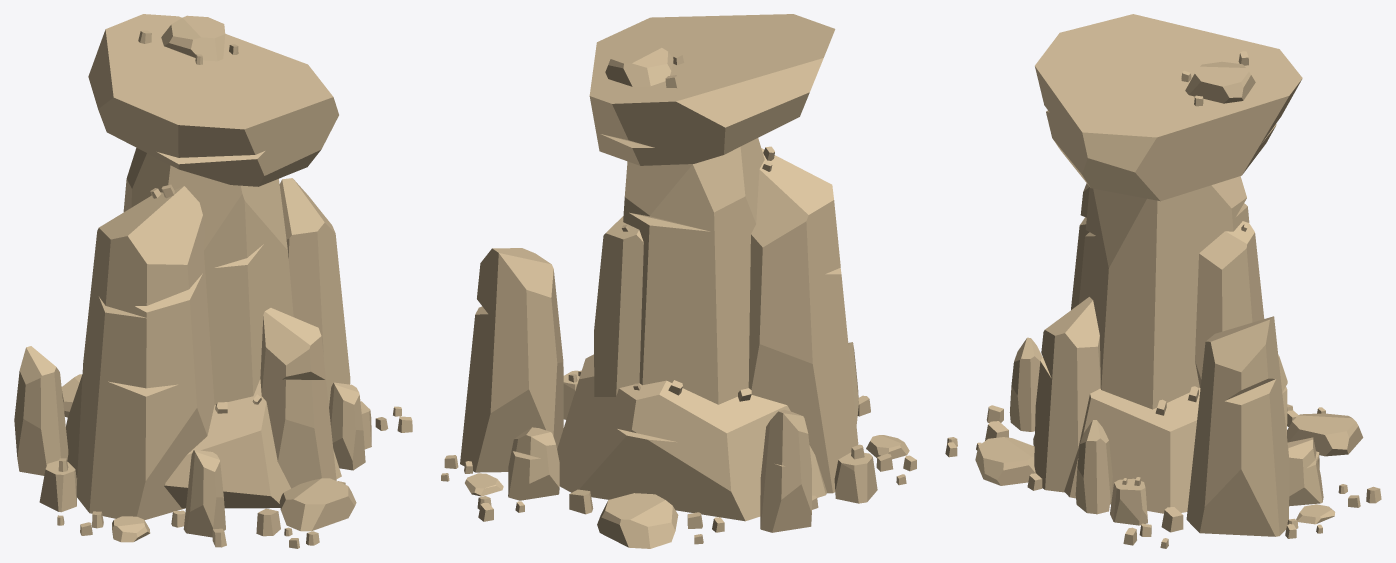
Rendered from roca1.glb.
3 renders of one model, left to right at view 1: azimuth 30°, elevation 25°; view 2: azimuth 150°, elevation 25°; view 3: azimuth 270°, elevation 25°, orthographic. The views are drawn at different scales.
Visible parts, largest first — view 1: big_rock_02_Cylinder_007; view 2: big_rock_02_Cylinder_007; view 3: big_rock_02_Cylinder_007.
Part boxes in pixels (x1,y1,x2,y2): big_rock_02_Cylinder_007: (14, 14, 412, 548); big_rock_02_Cylinder_007: (441, 14, 916, 548); big_rock_02_Cylinder_007: (945, 14, 1381, 548).
Bounding box in the file's own units: 1.77 × 1.86 × 1.85.
